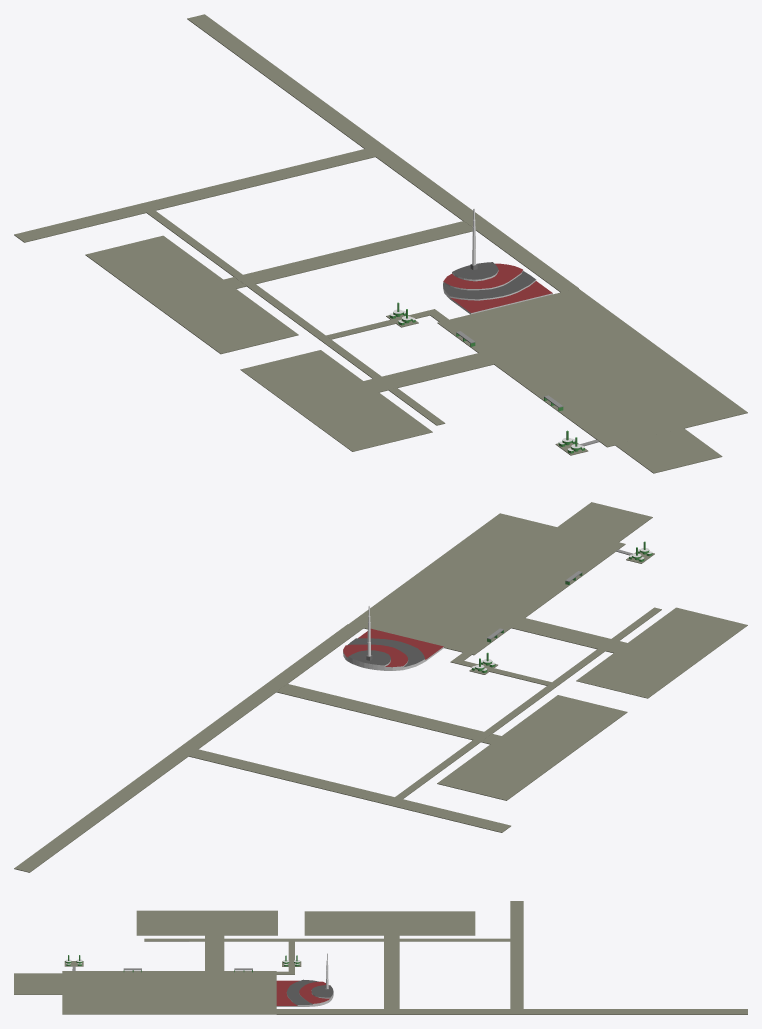
File: EXPLANADABANDERAAYB.glb
The picture shows the model from 3 angles, top to bottom: view 1: azimuth 30°, elevation 25°; view 2: azimuth 150°, elevation 25°; view 3: azimuth 270°, elevation 25°; orthographic projection. The views are drawn at different scales.
Parts seen in each view (by area): view 1: Plano, Cube.021, Cube.022, Cube.006, Cube.020, Cubo, Cube.011, Cube, Cube.019, Cube.003; view 2: Plano, Cube.021, Cube.022, Cube.006, Cube.020, Cubo, Cube.011, Cube.019, Cube, Cube.003; view 3: Plano, Cube.021, Cube.022, Cube.006, Cube.020, Cubo, Cube.019, Cube.011, Cube, Cube.003.
Boxes of the visible parts, <box> form: Plano: <box>437,288,747,447</box>; Cube.021: <box>85,235,298,354</box>; Cube.022: <box>240,350,432,451</box>; Cube.006: <box>187,14,578,292</box>; Cube.020: <box>14,149,375,242</box>; Cubo: <box>443,262,552,314</box>; Cube.011: <box>215,221,475,290</box>; Cube: <box>615,428,722,473</box>; Cube.019: <box>146,210,445,425</box>; Cube.003: <box>364,353,493,392</box>; Plano: <box>349,513,625,655</box>; Cube.021: <box>437,695,627,800</box>; Cube.022: <box>576,607,747,698</box>; Cube.006: <box>14,624,363,872</box>; Cube.020: <box>188,749,510,832</box>; Cubo: <box>343,628,443,670</box>; Cube.011: <box>276,684,508,745</box>; Cube.019: <box>395,607,661,798</box>; Cube: <box>557,502,652,541</box>; Cube.003: <box>511,618,626,653</box>; Plano: <box>62,971,276,1014</box>; Cube.021: <box>304,911,475,935</box>; Cube.022: <box>136,910,277,935</box>; Cube.006: <box>276,1009,747,1014</box>; Cube.020: <box>510,901,523,1008</box>; Cubo: <box>276,979,333,1006</box>; Cube.019: <box>144,938,510,941</box>; Cube.011: <box>384,932,399,1008</box>; Cube: <box>14,973,62,994</box>; Cube.003: <box>205,935,224,970</box>.
Bounding box in the file's own units: 255 × 44.38 × 696.
